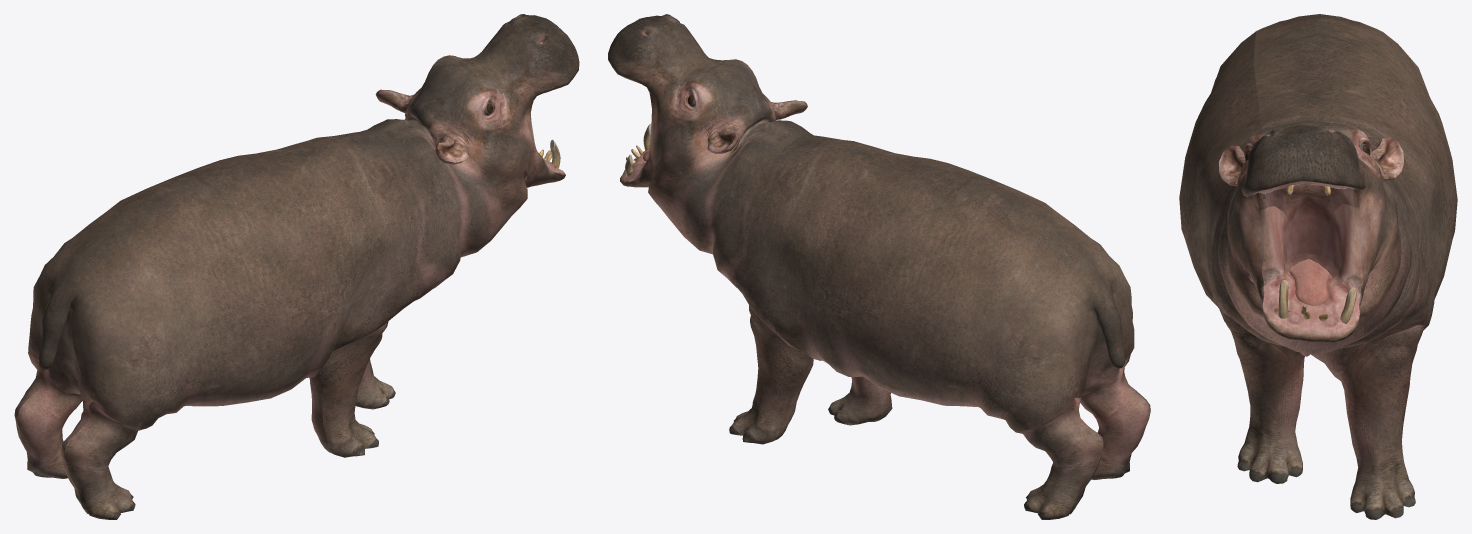
The model's file is HIPPO_TEEN.glb.
The picture shows the model from 3 angles, left to right: view 1: azimuth 30°, elevation 25°; view 2: azimuth 150°, elevation 25°; view 3: azimuth 270°, elevation 25°; orthographic projection. The views are drawn at different scales.
Parts seen in each view (by area): view 1: SkeletalMeshComponent0; view 2: SkeletalMeshComponent0; view 3: SkeletalMeshComponent0, SkeletalMeshComponent0.002.
Boxes of the visible parts, x1=… form: SkeletalMeshComponent0: x1=14, y1=14, x2=579, y2=519; SkeletalMeshComponent0: x1=608, y1=14, x2=1150, y2=519; SkeletalMeshComponent0: x1=1179, y1=14, x2=1457, y2=519; SkeletalMeshComponent0.002: x1=1278, y1=280, x2=1356, y2=323.
Bounding box in the file's own units: 0.2129 × 0.1441 × 0.0786.
2 materials, 2 textured.
